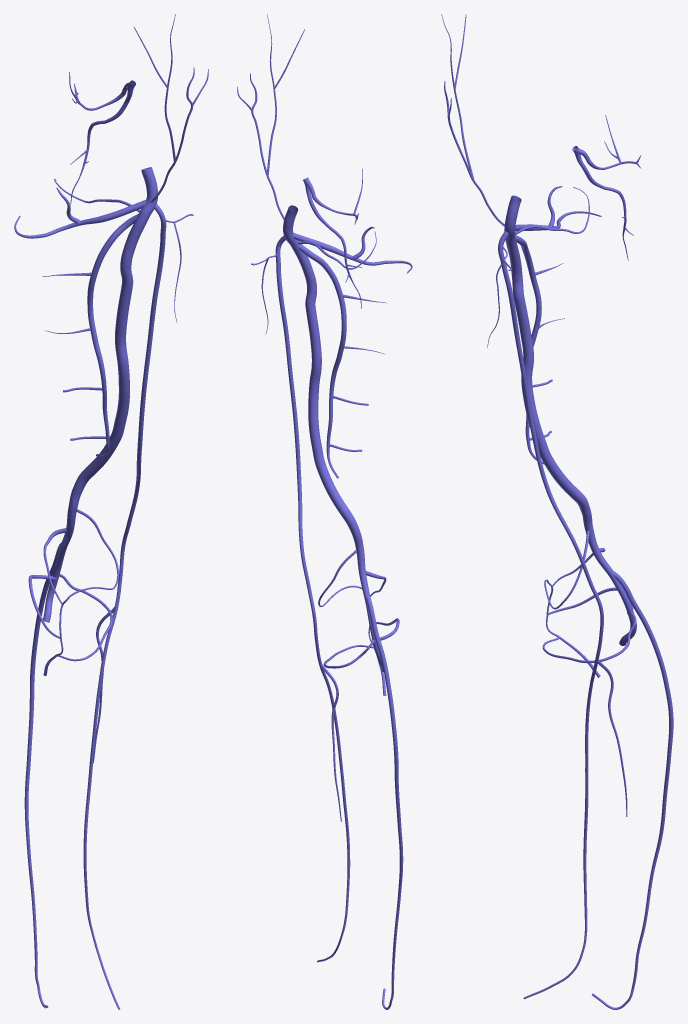
Rendered from veins.glb.
3 renders of one model, left to right at view 1: azimuth 30°, elevation 25°; view 2: azimuth 210°, elevation 25°; view 3: azimuth 270°, elevation 25°, orthographic. The views are drawn at different scales.
Visible parts, largest first — view 1: Great saphenous vein.r, Femoral vein.r, Small saphenous vein.r, Genicular veins.r, Deep femoral vein.r, Popliteal vein.r, Lateral circumflex femoral veins.r, Superficial epigastric vein.r, Inferior gluteal veins.r; view 2: Great saphenous vein.r, Femoral vein.r, Small saphenous vein.r, Deep femoral vein.r, Genicular veins.r, Popliteal vein.r, Superficial epigastric vein.r, Lateral circumflex femoral veins.r, Inferior gluteal veins.r; view 3: Great saphenous vein.r, Femoral vein.r, Small saphenous vein.r, Genicular veins.r, Popliteal vein.r, Superficial epigastric vein.r, Deep femoral vein.r.
Boxes of the visible parts, x1,y1,x2,y2 form: Great saphenous vein.r: [83, 203, 166, 1009]; Femoral vein.r: [84, 167, 157, 476]; Small saphenous vein.r: [24, 542, 61, 1008]; Genicular veins.r: [28, 509, 118, 675]; Deep femoral vein.r: [87, 214, 138, 456]; Popliteal vein.r: [43, 469, 91, 622]; Lateral circumflex femoral veins.r: [14, 187, 146, 238]; Superficial epigastric vein.r: [134, 14, 208, 203]; Inferior gluteal veins.r: [70, 80, 135, 204]; Great saphenous vein.r: [275, 235, 350, 962]; Femoral vein.r: [283, 205, 348, 514]; Small saphenous vein.r: [366, 595, 403, 1009]; Deep femoral vein.r: [298, 244, 346, 478]; Genicular veins.r: [318, 550, 399, 695]; Popliteal vein.r: [341, 510, 383, 671]; Superficial epigastric vein.r: [237, 14, 304, 219]; Lateral circumflex femoral veins.r: [293, 226, 412, 273]; Inferior gluteal veins.r: [303, 178, 362, 308]; Great saphenous vein.r: [498, 231, 627, 999]; Femoral vein.r: [504, 195, 581, 500]; Small saphenous vein.r: [592, 570, 673, 1009]; Genicular veins.r: [542, 530, 636, 677]; Popliteal vein.r: [574, 493, 636, 645]; Superficial epigastric vein.r: [441, 14, 504, 226]; Deep femoral vein.r: [515, 235, 544, 464].
Bounding box in the file's own units: 0.1466 × 1.03 × 0.2138.
